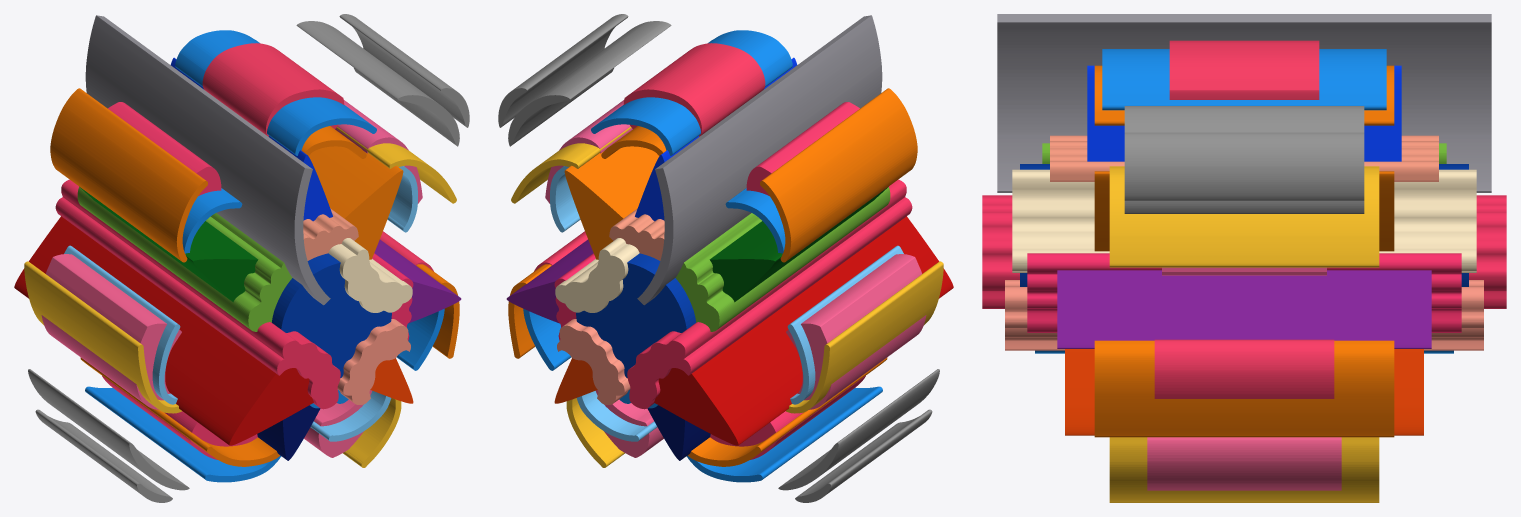
3 views of the same model, side by side, from view 1: azimuth 30°, elevation 25°; view 2: azimuth 150°, elevation 25°; view 3: azimuth 270°, elevation 25° (orthographic). The views are drawn at different scales.
Parts seen in each view (by area): view 1: U+1FA85_layer23_obj00, U+1FA85_layer24_obj00, U+1FA85_layer10_obj02, U+1FA85_layer25_obj00, U+1FA85_layer00_obj00, U+1FA85_layer20_obj00, U+1FA85_layer05_obj00, U+1FA85_layer17_obj00, U+1FA85_layer08_obj01, U+1FA85_layer10_obj03, U+1FA85_layer09_obj00, U+1FA85_layer06_obj00 (+27 smaller); view 2: U+1FA85_layer23_obj00, U+1FA85_layer24_obj00, U+1FA85_layer10_obj02, U+1FA85_layer25_obj00, U+1FA85_layer00_obj00, U+1FA85_layer20_obj00, U+1FA85_layer05_obj00, U+1FA85_layer17_obj00, U+1FA85_layer08_obj01, U+1FA85_layer10_obj03, U+1FA85_layer09_obj00, U+1FA85_layer06_obj00 (+27 smaller); view 3: U+1FA85_layer23_obj00, U+1FA85_layer15_obj00, U+1FA85_layer10_obj04, U+1FA85_layer06_obj03, U+1FA85_layer08_obj02, U+1FA85_layer21_obj00, U+1FA85_layer02_obj00, U+1FA85_layer03_obj00, U+1FA85_layer06_obj00, U+1FA85_layer00_obj00, U+1FA85_layer09_obj00, U+1FA85_layer08_obj00 (+10 smaller).
Part boxes in pixels (x1,y1,x2,y2): U+1FA85_layer23_obj00: (85,15,330,305); U+1FA85_layer24_obj00: (14,216,313,445); U+1FA85_layer10_obj02: (50,88,207,262); U+1FA85_layer25_obj00: (55,179,340,409); U+1FA85_layer00_obj00: (202,43,344,136); U+1FA85_layer20_obj00: (272,253,391,377); U+1FA85_layer05_obj00: (41,254,181,409); U+1FA85_layer17_obj00: (77,187,292,331); U+1FA85_layer08_obj01: (24,261,181,413); U+1FA85_layer10_obj03: (308,146,403,259); U+1FA85_layer09_obj00: (175,30,376,155); U+1FA85_layer06_obj00: (296,21,459,146); U+1FA85_layer23_obj00: (637,15,882,305); U+1FA85_layer24_obj00: (654,216,953,445); U+1FA85_layer10_obj02: (760,88,917,262); U+1FA85_layer25_obj00: (627,179,912,409); U+1FA85_layer00_obj00: (623,43,765,136); U+1FA85_layer20_obj00: (576,253,695,377); U+1FA85_layer05_obj00: (786,254,926,409); U+1FA85_layer17_obj00: (675,187,890,331); U+1FA85_layer08_obj01: (786,261,943,413); U+1FA85_layer10_obj03: (564,146,659,259); U+1FA85_layer09_obj00: (591,30,792,155); U+1FA85_layer06_obj00: (508,21,671,146); U+1FA85_layer23_obj00: (997,14,1491,192); U+1FA85_layer15_obj00: (1057,270,1431,348); U+1FA85_layer10_obj04: (1094,340,1394,437); U+1FA85_layer06_obj03: (1124,132,1364,200); U+1FA85_layer08_obj02: (1109,166,1379,267); U+1FA85_layer21_obj00: (1012,169,1476,272); U+1FA85_layer02_obj00: (1154,339,1334,398); U+1FA85_layer03_obj00: (1147,437,1341,490); U+1FA85_layer06_obj00: (1124,106,1364,213); U+1FA85_layer00_obj00: (1169,40,1319,99); U+1FA85_layer09_obj00: (1102,49,1386,110); U+1FA85_layer08_obj00: (1109,437,1379,502).
Size of the model in its own units: 0.3106 by 0.3196 by 0.35.
